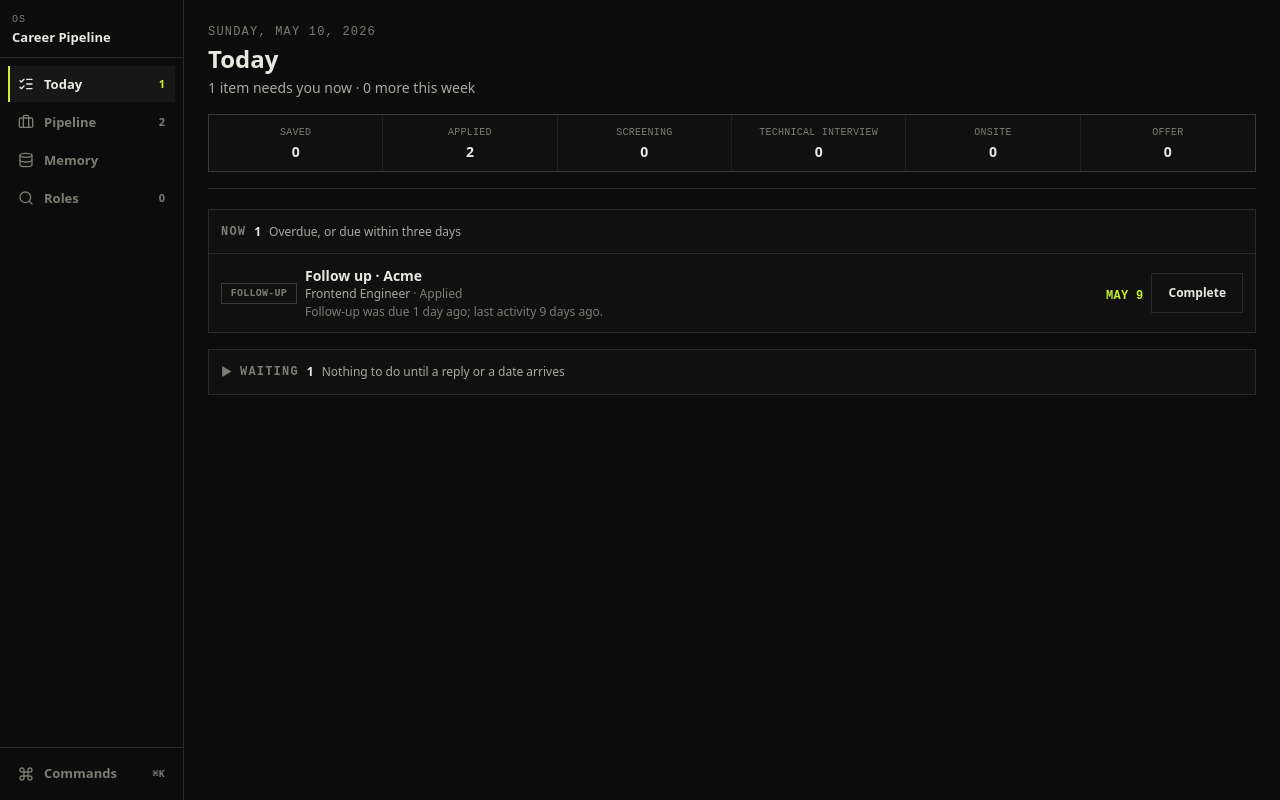
Test: Today workspace › collapses Waiting by default and expands it on request
Expected: the navigation bar named "Global navigation" is shown, [0,0,184,799]
Expected: the 3rd text "1" is shown, [307,364,314,380]
Click the button "▶ Waiting 1 Nothing to do until a reply or a date arrives" at [269, 372], box [209,350,1255,394]
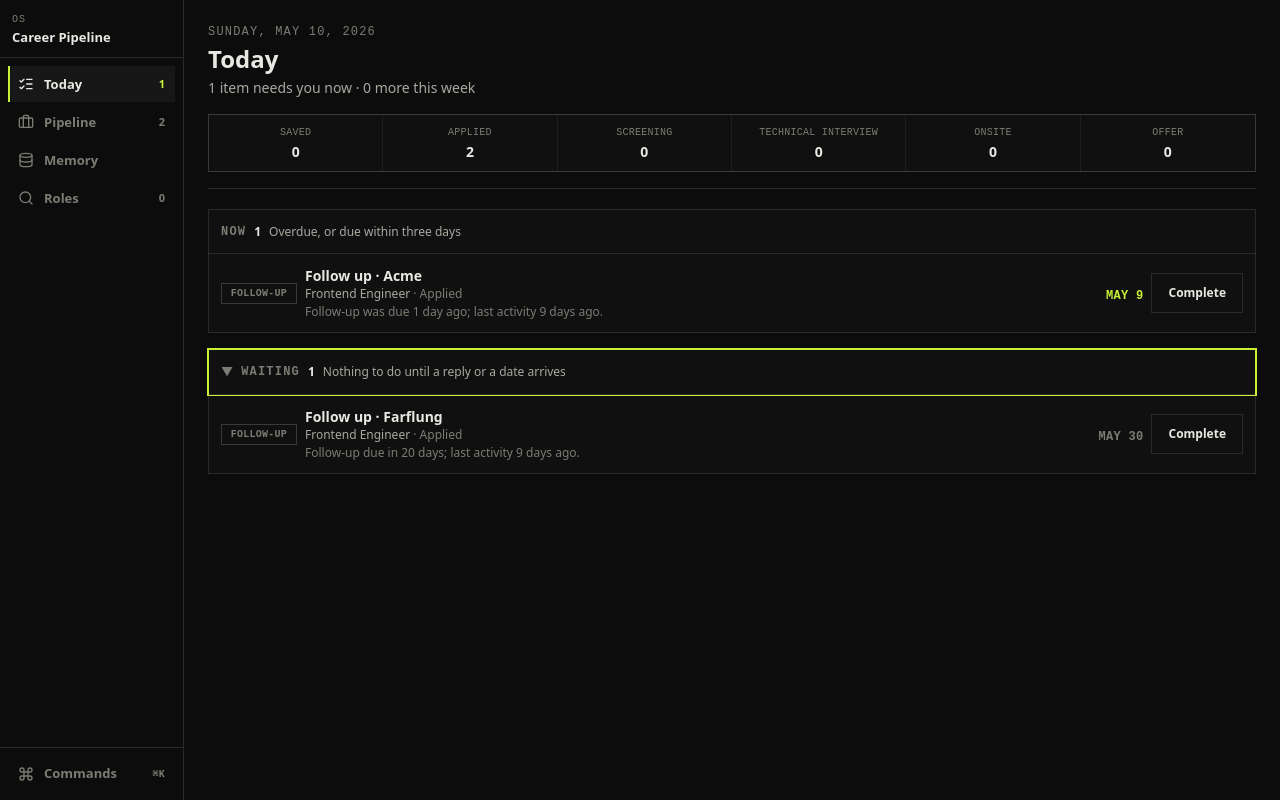
Expected: the button "▼ Waiting 1 Nothing to do until a reply or a date arrives" is expanded, [209,350,1255,394]
Expected: the text "Follow up · Farflung" is shown, [305,407,443,426]
